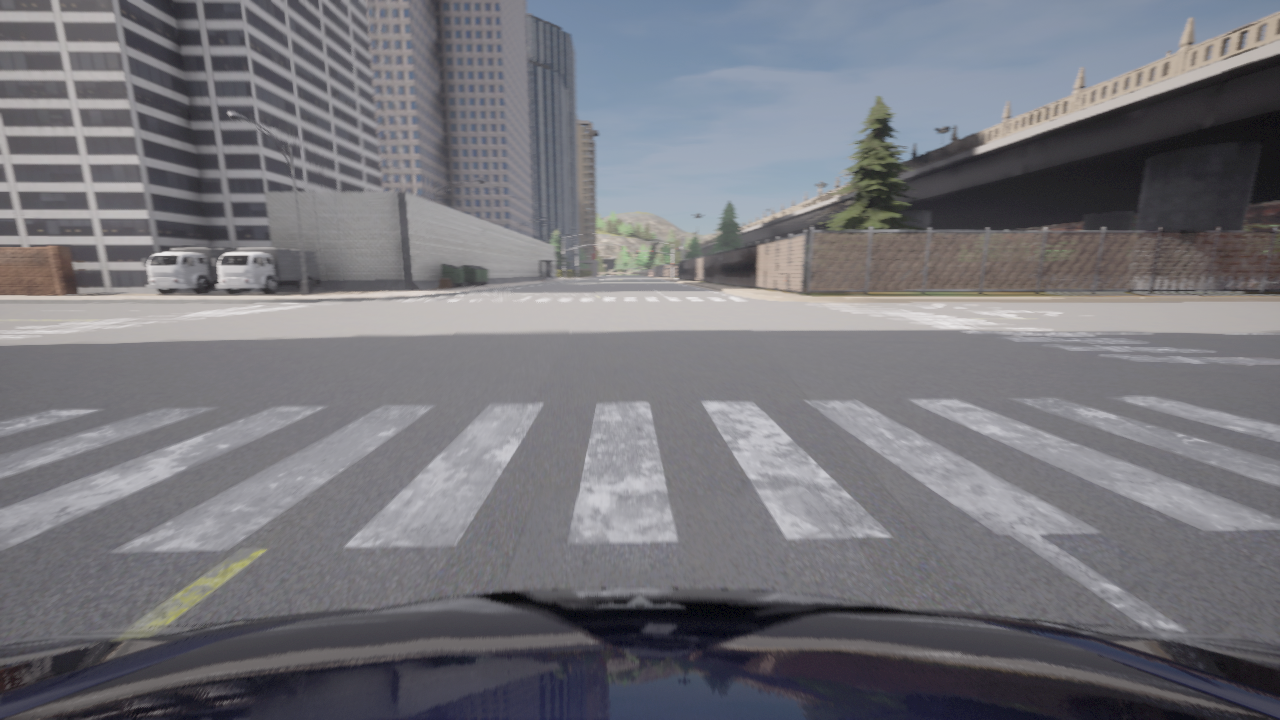cyclist: (0, 588, 1279, 719), (212, 248, 321, 294), (142, 248, 251, 294)
